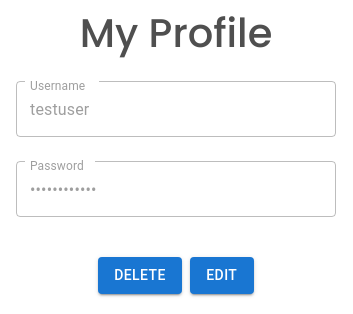
Scenario: MyProfile Component › allows editing when Edit button is clicked
Expected: the field labelled "Username" is disabled, x1=16 y1=81 x2=336 y2=137
Expected: the password field labelled "Password" is disabled, x1=16 y1=161 x2=336 y2=217
Click the button "Edit". click: click(222, 275)
box: x1=190 y1=257 x2=254 y2=294
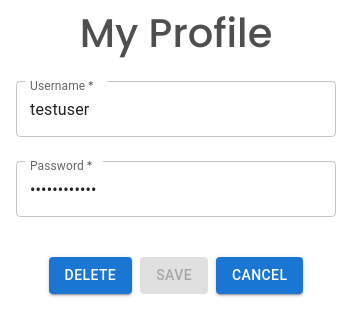
Expected: the field labelled "Username *" is enabled, x1=16 y1=81 x2=336 y2=137
Expected: the password field labelled "Password *" is enabled, x1=16 y1=161 x2=336 y2=217
Expected: the button "Save" is shown, x1=140 y1=257 x2=208 y2=294
